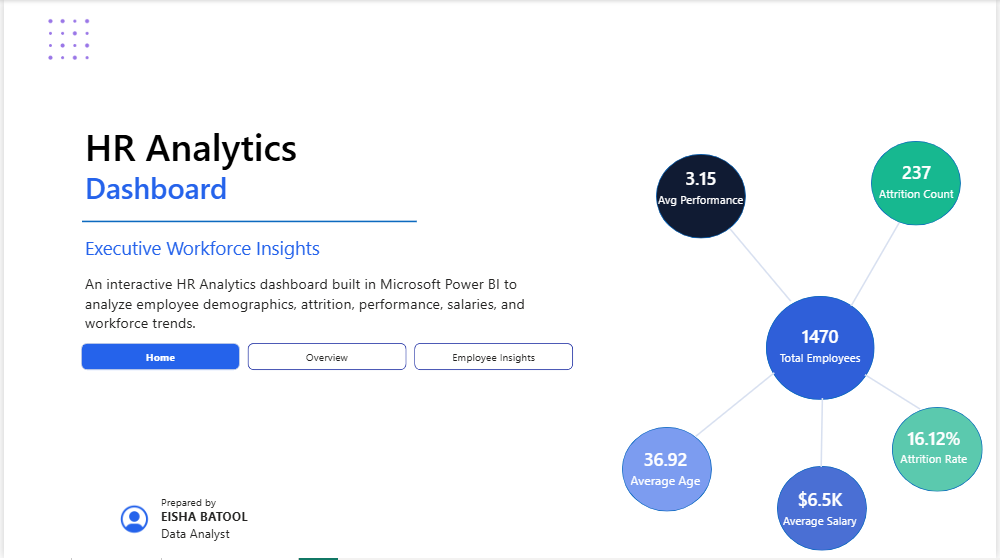

The dashboard page shown, as its layout file describes it:
{"tool":"powerbi","page":{"name":"Home","canvas":[1280,720],"ordinal":0},"visuals":[{"type":"textbox","box":[99.9,211.2,306.1,63.8],"z":0},{"type":"textbox","box":[99.9,134.7,337.3,109.1],"z":1000},{"type":"textbox","box":[99.7,348.1,610.7,131.3],"z":2000},{"type":"pageNavigator","box":[99.7,442.3,636.4,35.7],"z":3000},{"type":"textbox","box":[99.7,298.1,513.7,58.5],"z":4000},{"type":"textbox","box":[0,97.5,306,150],"z":5000},{"type":"textbox","box":[196.9,633.8,160,80],"z":6000},{"type":"image","box":[149.2,650.8,36.9,38.5],"z":7000},{"type":"image","box":[18.6,20,131.3,62.8],"z":8000},{"type":"shape","box":[983.1,381.5,140,134],"z":9000},{"type":"shape","box":[1146.2,524.6,116.9,109.2],"z":10000},{"type":"shape","box":[996.9,601.5,116,109.2],"z":11000},{"type":"shape","box":[796.9,550.8,116,109],"z":12000},{"type":"shape","box":[841.5,198.5,116,109],"z":13000},{"type":"shape","box":[1118.5,181.5,116,109],"z":14000},{"type":"cardVisual","title":"Total Employees","fields":{"Data":["_Measure.Total Employees"]},"box":[950.8,389.2,196.9,100],"z":15000},{"type":"cardVisual","title":"Attrition Count","fields":{"Data":["_Measure.Attrition Count"]},"box":[1081.5,181.5,184.6,92.3],"z":16000},{"type":"cardVisual","title":"Attrition Rate","fields":{"Data":["_Measure.Attrition Rate"]},"box":[1112.3,513.8,167.7,115.4],"z":17000},{"type":"cardVisual","title":"Avg. Salary","fields":{"Data":["_Measure.Average Salary"]},"box":[947.7,600,203.1,100],"z":18000},{"type":"cardVisual","title":"Avg. Age","fields":{"Data":["_Measure.Average Age"]},"box":[753.8,540,192.3,116.9],"z":19000},{"type":"cardVisual","title":"Avg. Performance Rate","fields":{"Data":["_Measure.Average Performance Rating"]},"box":[769.2,178.5,252.3,116.9],"z":20000},{"type":"shape","box":[100,253.8,432.3,63.1],"z":21000},{"type":"shape","box":[1012.3,513.8,84.6,89],"z":22000},{"type":"shape","box":[1093.8,483.1,104.6,46.2],"z":23000},{"type":"shape","box":[863.1,480,160,84],"z":24000},{"type":"shape","box":[849.2,293.8,253.8,95.4],"z":25000},{"type":"shape","box":[1086.2,286.2,75.4,109],"z":26000}]}

Visuals, with their boxes in screenshot pixels (x1, y1, x2, y2), scaled from the page's 1280x720 canvas onto the 1000x560 screenshot:
textbox: left=78, top=164, right=317, bottom=214
textbox: left=78, top=105, right=342, bottom=190
textbox: left=78, top=271, right=555, bottom=373
pageNavigator: left=78, top=344, right=575, bottom=372
textbox: left=78, top=232, right=479, bottom=277
textbox: left=0, top=76, right=239, bottom=192
textbox: left=154, top=493, right=279, bottom=555
image: left=117, top=506, right=145, bottom=536
image: left=15, top=16, right=117, bottom=64
shape: left=768, top=297, right=877, bottom=401
shape: left=895, top=408, right=987, bottom=493
shape: left=779, top=468, right=869, bottom=553
shape: left=623, top=428, right=713, bottom=513
shape: left=657, top=154, right=748, bottom=239
shape: left=874, top=141, right=964, bottom=226
"Total Employees" cardVisual: left=743, top=303, right=897, bottom=380
"Attrition Count" cardVisual: left=845, top=141, right=989, bottom=213
"Attrition Rate" cardVisual: left=869, top=400, right=999, bottom=489
"Avg. Salary" cardVisual: left=740, top=467, right=899, bottom=544
"Avg. Age" cardVisual: left=589, top=420, right=739, bottom=511
"Avg. Performance Rate" cardVisual: left=601, top=139, right=798, bottom=230
shape: left=78, top=197, right=416, bottom=246
shape: left=791, top=400, right=857, bottom=469
shape: left=855, top=376, right=936, bottom=412
shape: left=674, top=373, right=799, bottom=439
shape: left=663, top=229, right=862, bottom=303
shape: left=849, top=223, right=908, bottom=307
